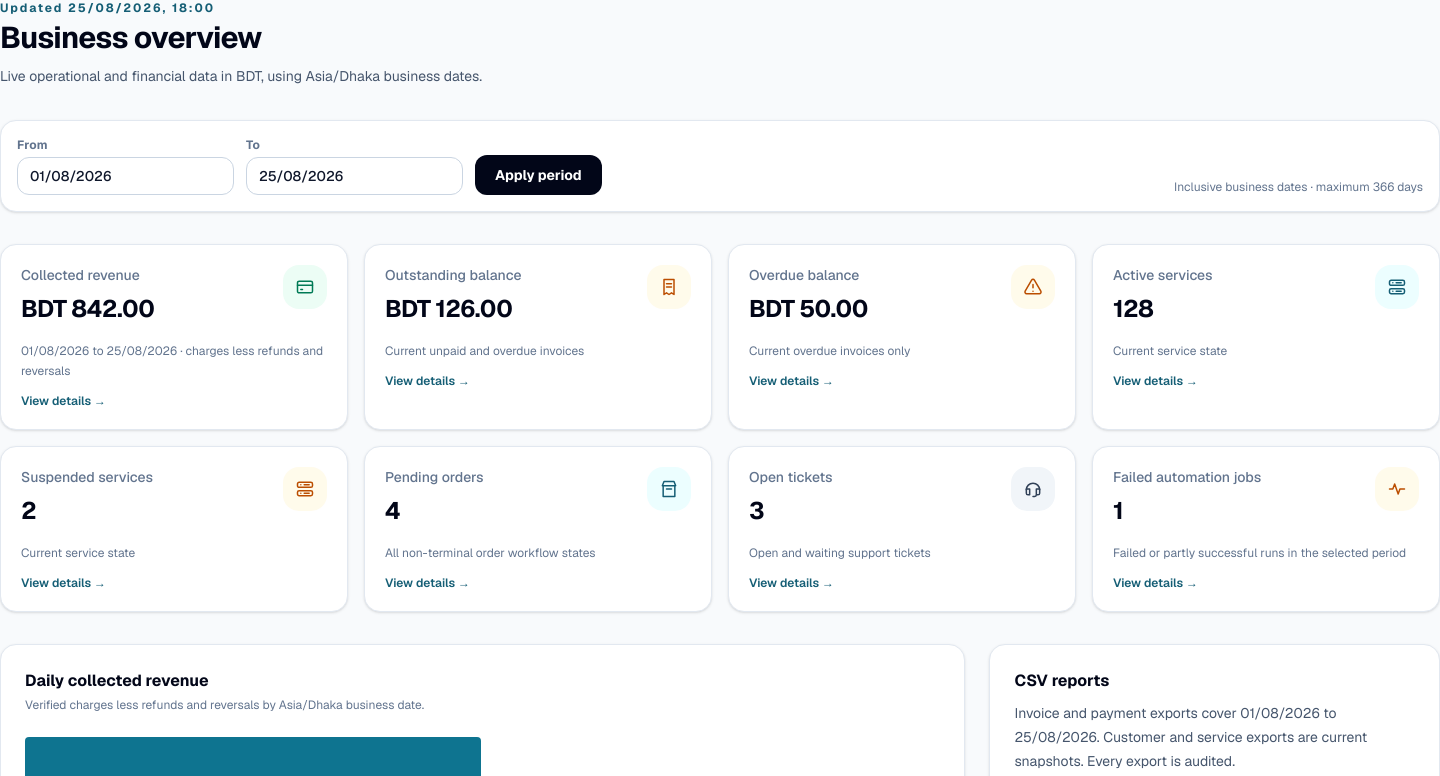
Test: administrator dashboard › rejects an impossible calendar date without requesting another dashboard
The width and height of the screenshot is (1440, 776).
Expected: the text "BDT 842.00" is shown, top-left (21, 293), bottom-right (154, 325)
Replace the text in the field labelled "From" with "31/02/2026" at (126, 176), box top-left (17, 157), bottom-right (234, 195)
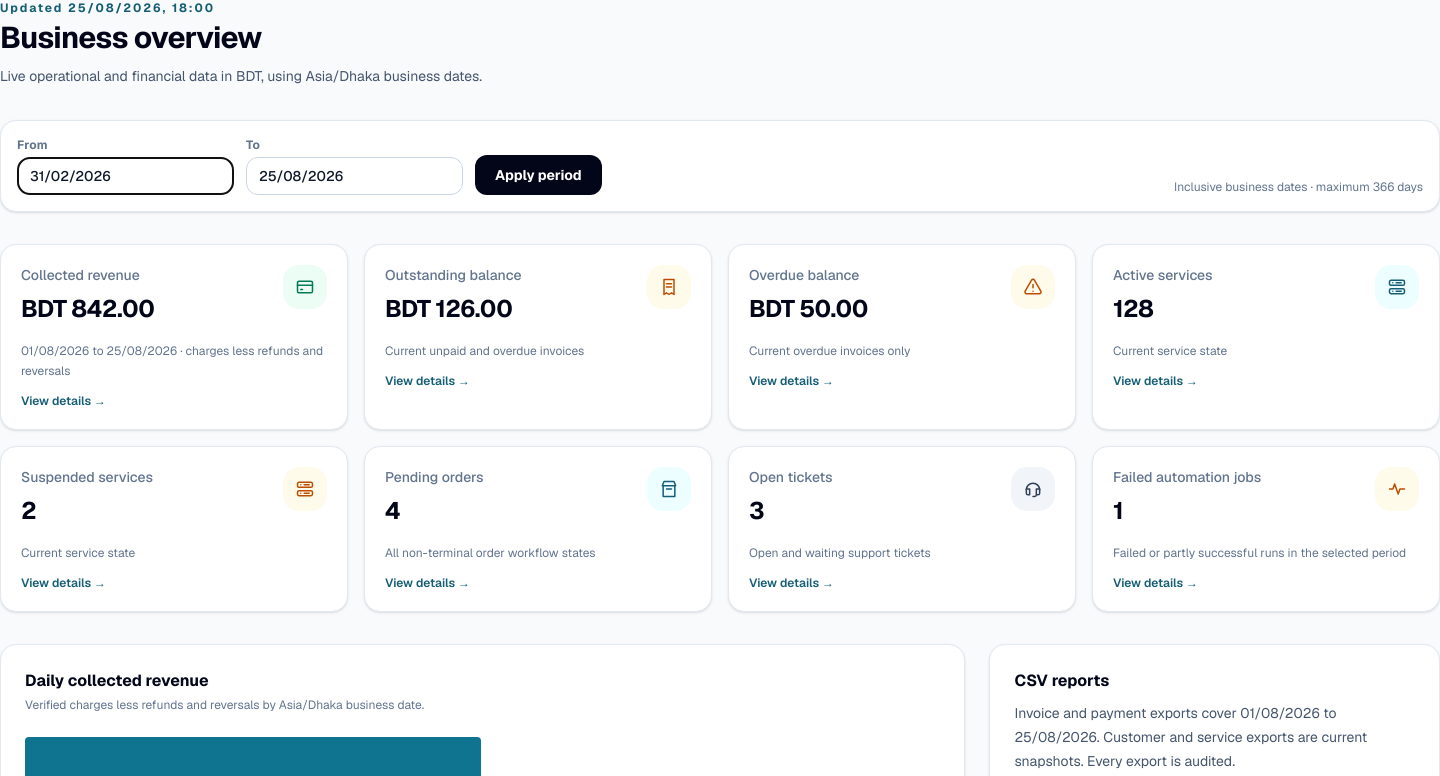
Click the button "Apply period".
click(538, 175)  # box top-left (475, 155), bottom-right (602, 195)
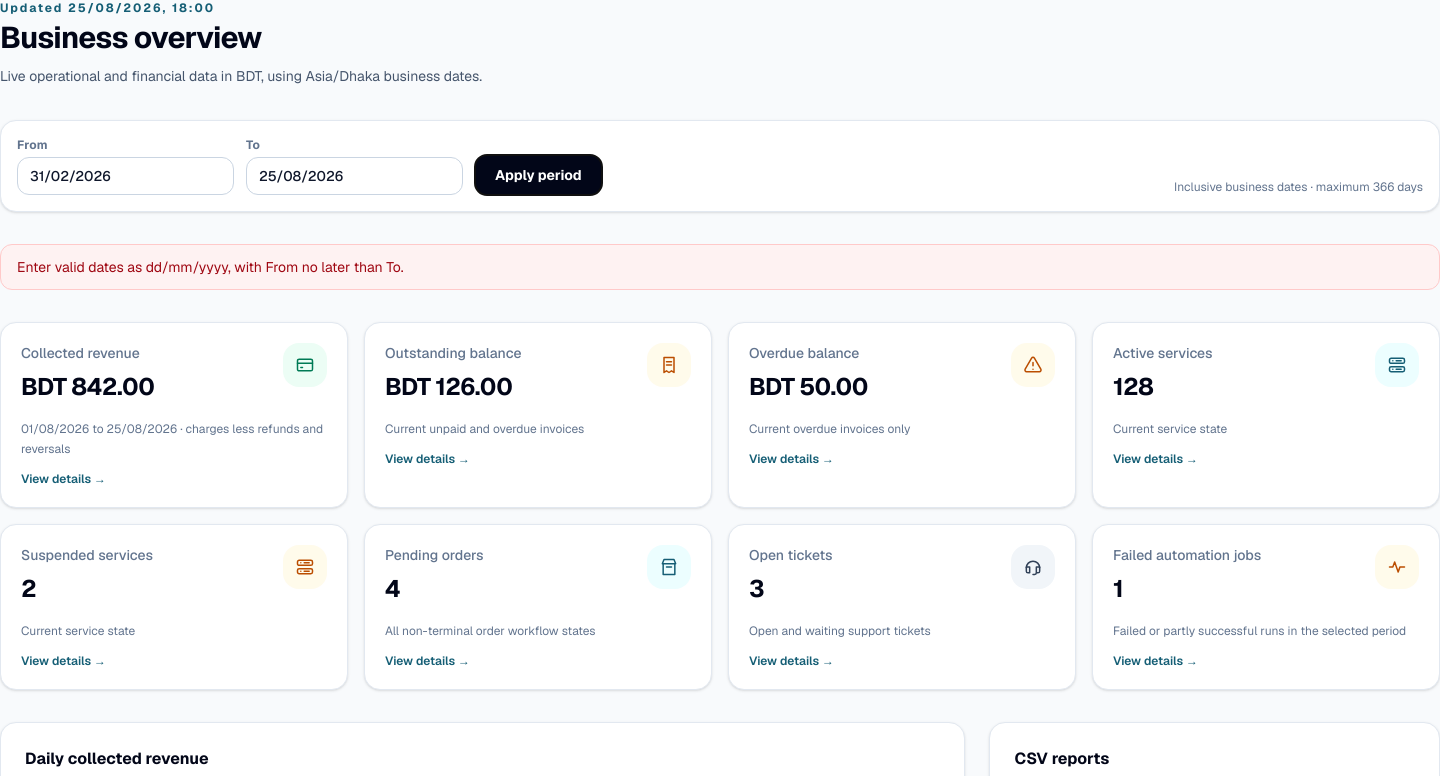
Expected: the text "BDT 842.00" is shown, top-left (21, 371), bottom-right (154, 403)
Expected: the message shows "dd/mm/yyyy", top-left (17, 258), bottom-right (404, 276)
